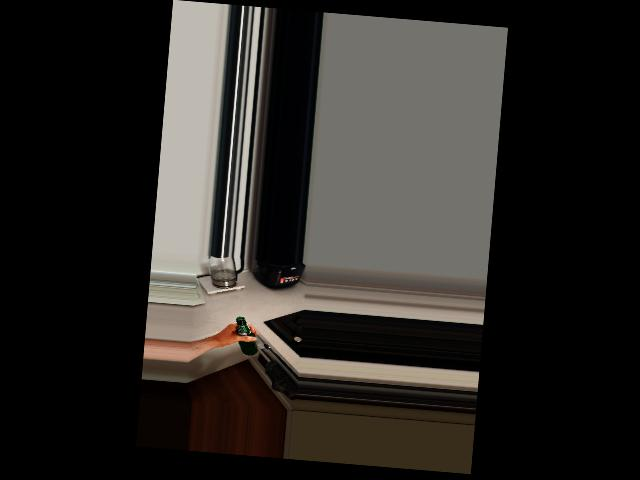beer: (232, 316, 260, 356)
